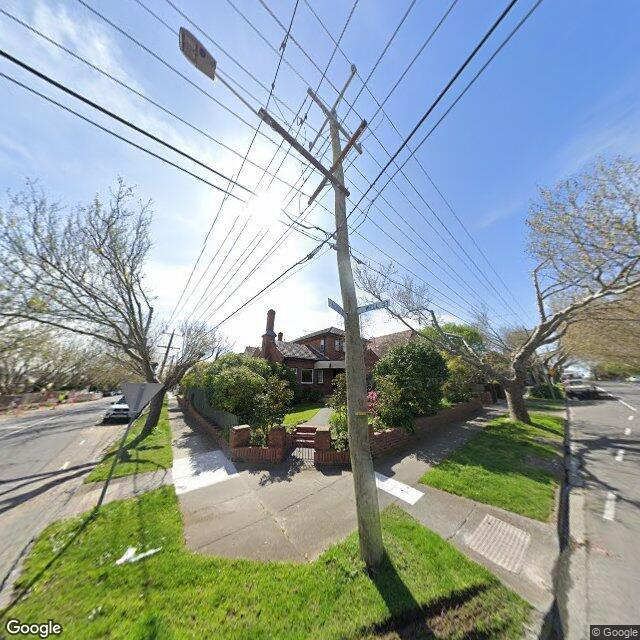HV-transmission: (307, 64, 359, 152), (162, 328, 185, 337)
crossarm: (260, 108, 349, 196), (308, 118, 368, 206), (306, 88, 364, 156), (312, 71, 356, 145), (157, 344, 180, 350), (165, 332, 182, 337)
streetlight: (178, 28, 259, 117)
timber-pole: (331, 112, 384, 562), (158, 333, 174, 381)
